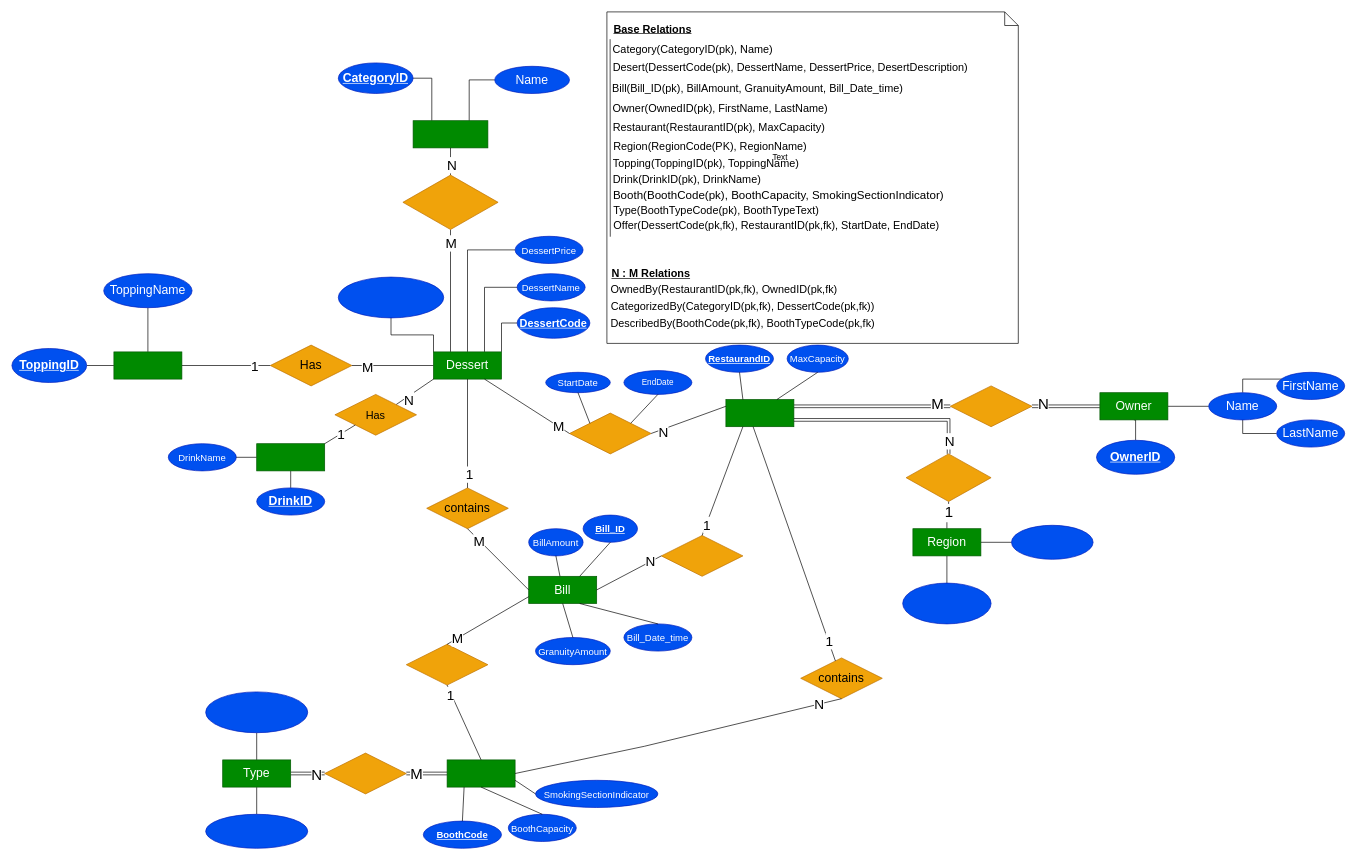
Image size: 1357x860. Some labels were removed from this diagram. Each missing label, with the centre of its shape:
"Booth" belongs at [480,773].
"BoothTypeCode" belongs at [256,712].
"BoothTypeText" belongs at [256,831].
"CategorizedBy" belongs at [450,202].
"Category" belongs at [450,134].
"DescribedBy" belongs at [365,773].
"DesertDescription" belongs at [391,297].
"Drink" belongs at [290,457].
"generate" belongs at [447,664].
"LocatedIn" belongs at [948,477].
"offer" belongs at [610,433].
"OwnedBy" belongs at [991,406].
"process" belongs at [702,555].
"RegionCode" belongs at [946,603].
"RegionName" belongs at [1052,542].
"Restaurant" belongs at [759,413].
"Topping" belongs at [147,365].
